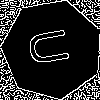U: (27, 24, 80, 69)
